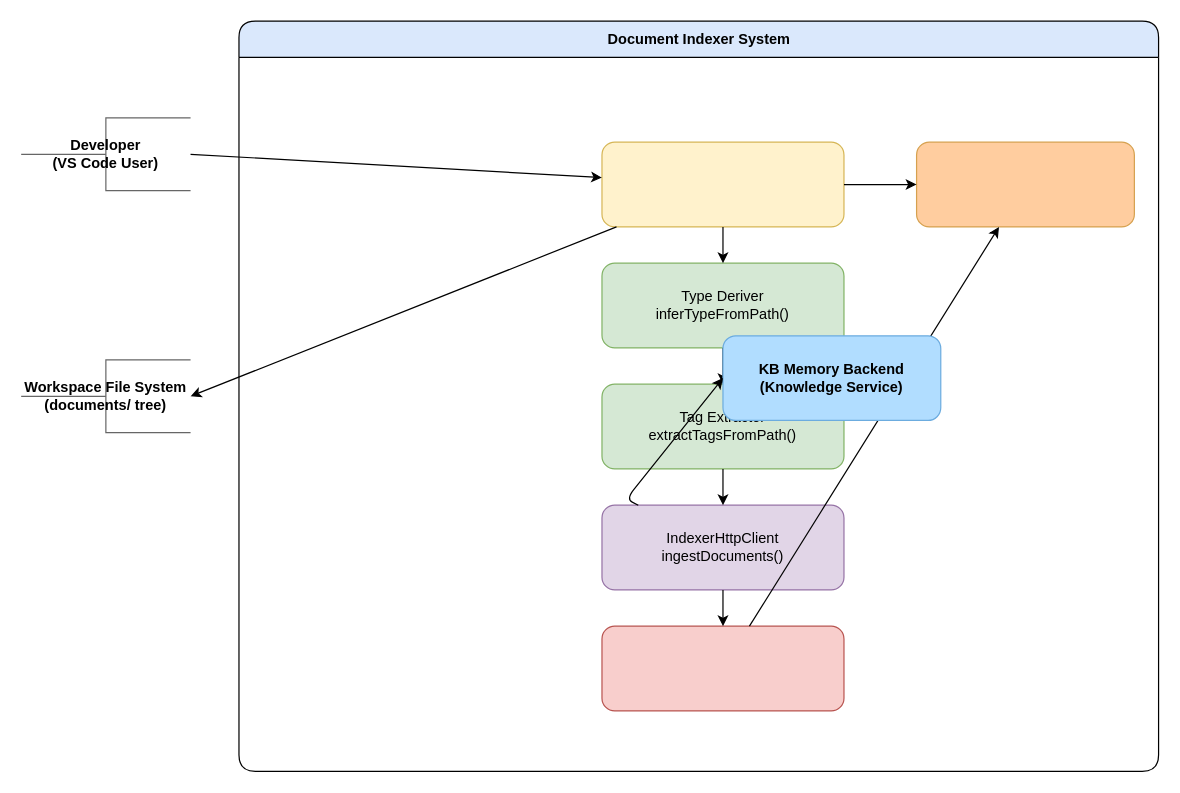
The diagram is 1180 pixels wide and 793 high, and some of its shapes have lost their labels. Each missing label, with the box of its shape:
Indexer Engine discovery + classification: (601, 141, 844, 227)
Result Verifier parse JSON response: (601, 625, 844, 711)
UI Display showIndexResults(): (915, 141, 1134, 227)
